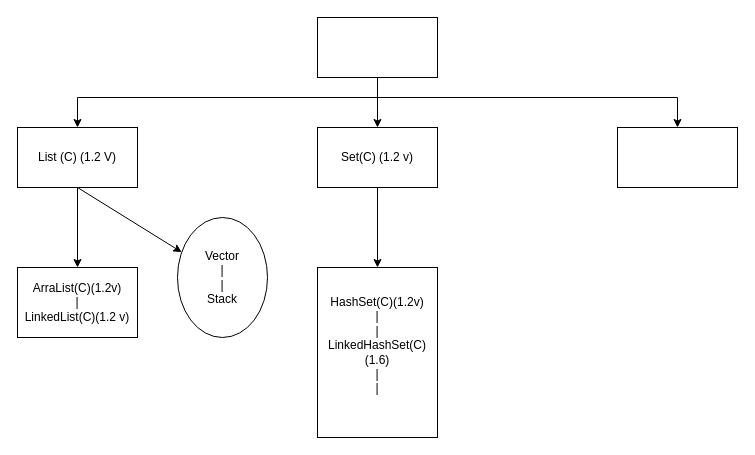
The diagram is 755 pixels wide and 455 high, and some of its shapes have lost their labels. The centre of each missing label's shape, as x and y in pixels:
collection: point (377, 47)
Queue(I): point (677, 157)
